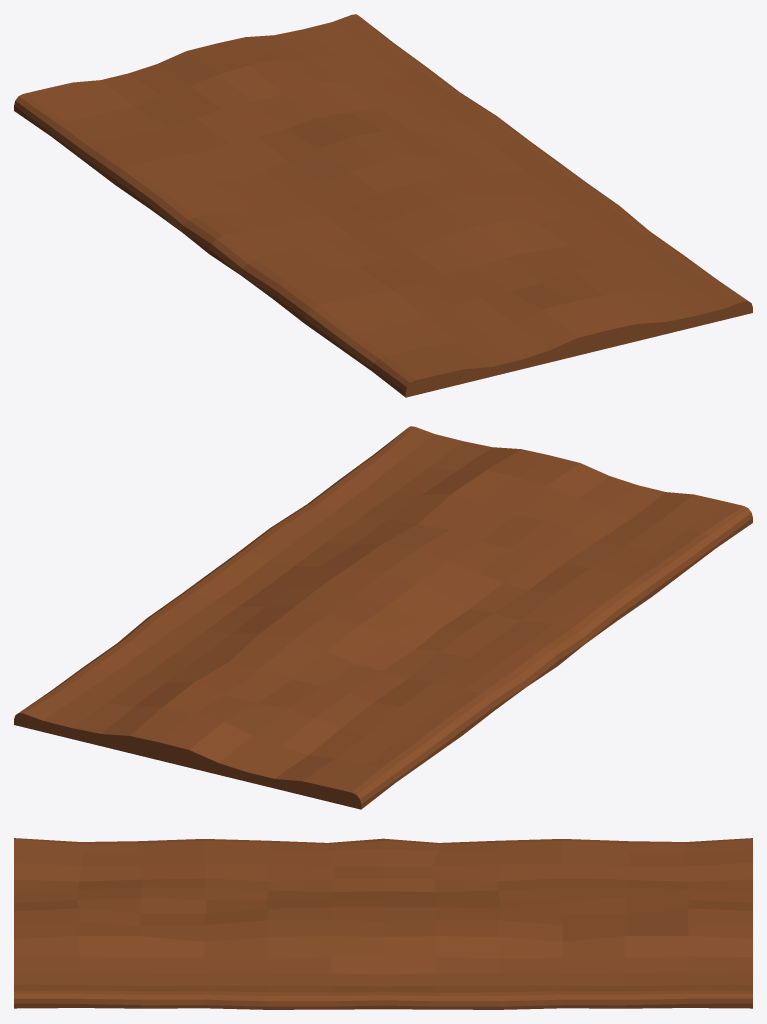
The model's file is GroundTile_1.fbx.
3 views of the same model, one above another, from view 1: azimuth 30°, elevation 25°; view 2: azimuth 150°, elevation 25°; view 3: azimuth 270°, elevation 25° (orthographic). The views are drawn at different scales.
Parts seen in each view (by area): view 1: GroundTile_1; view 2: GroundTile_1; view 3: GroundTile_1.
Boxes of the visible parts, x1,y1,x2,y2 form: GroundTile_1: (14, 14, 752, 397); GroundTile_1: (14, 426, 752, 809); GroundTile_1: (14, 838, 752, 1009).
Bounding box in the file's own units: 303 × 18.85 × 585.
